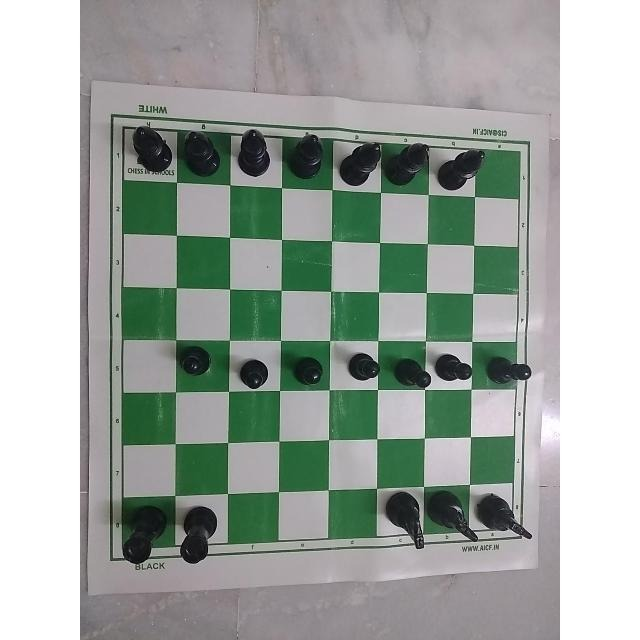black-bishop: (337, 123, 381, 201), (120, 118, 170, 184), (391, 122, 432, 200), (438, 134, 486, 198), (179, 116, 222, 180), (285, 121, 326, 187), (234, 115, 270, 179)
black-knight: (377, 485, 426, 564), (429, 486, 477, 566), (481, 485, 535, 549)
black-pawn: (485, 349, 534, 393), (171, 338, 213, 388), (284, 344, 327, 391), (341, 340, 383, 386), (396, 342, 432, 395), (236, 344, 273, 394), (437, 344, 474, 388)
black-rook: (114, 496, 174, 570), (174, 496, 222, 566)
